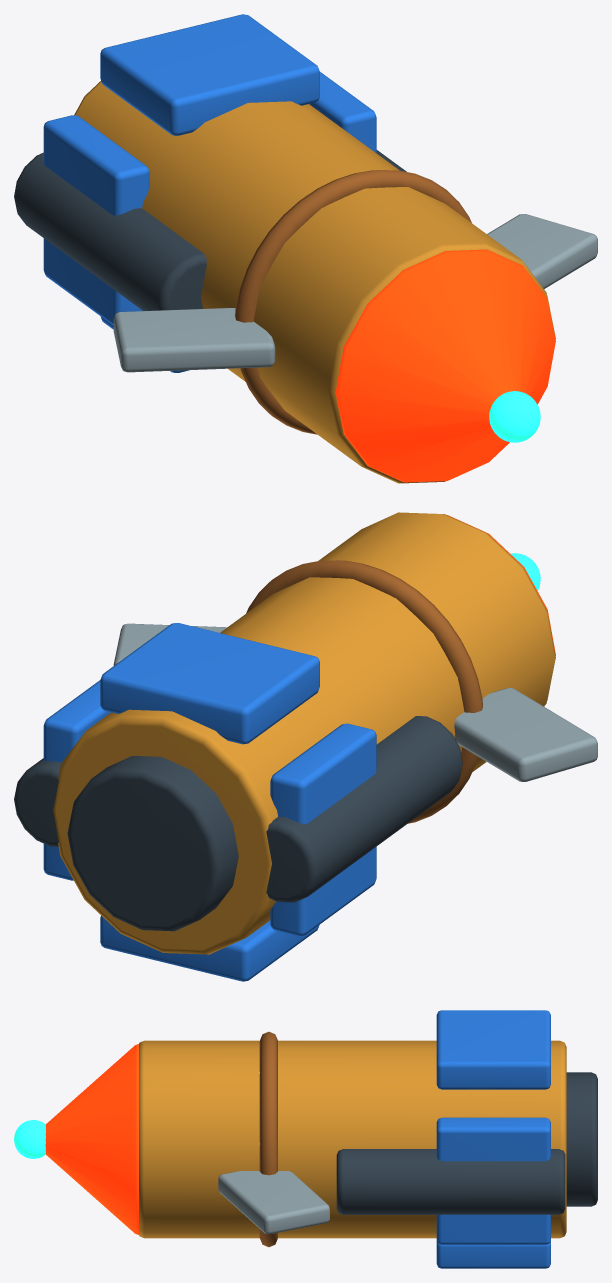
File: SuperTank_Special.fbx
The picture shows the model from 3 angles, top to bottom: view 1: azimuth 30°, elevation 25°; view 2: azimuth 150°, elevation 25°; view 3: azimuth 270°, elevation 25°; orthographic projection. The views are drawn at different scales.
Parts seen in each view (by area): view 1: Rocket body.005, Seeker nose.005, Tail stabilizer.021, Booster.002, Tail stabilizer.022, Guidance wing.004, Identification band.005, Guidance wing.005, Tail stabilizer.020, Guidance lens.002; view 2: Rocket body.005, Engine nozzle.005, Tail stabilizer.021, Booster.002, Tail stabilizer.022, Guidance wing.004, Identification band.005, Tail stabilizer.023, Tail stabilizer.020, Booster.003, Guidance wing.005; view 3: Rocket body.005, Booster.003, Seeker nose.005, Tail stabilizer.021, Tail stabilizer.020, Guidance wing.005, Engine nozzle.005, Identification band.005, Tail stabilizer.023, Guidance lens.002.
Boxes of the visible parts, left/top/right/bottom form: Rocket body.005: left=74, top=81, right=555, bottom=483; Seeker nose.005: left=335, top=249, right=555, bottom=482; Tail stabilizer.021: left=100, top=14, right=319, bottom=135; Booster.002: left=14, top=152, right=206, bottom=310; Tail stabilizer.022: left=43, top=115, right=149, bottom=325; Guidance wing.004: left=113, top=308, right=275, bottom=372; Identification band.005: left=235, top=170, right=471, bottom=434; Guidance wing.005: left=487, top=214, right=597, bottom=288; Tail stabilizer.020: left=309, top=72, right=376, bottom=152; Guidance lens.002: left=489, top=391, right=540, bottom=442; Rocket body.005: left=53, top=512, right=555, bottom=954; Engine nozzle.005: left=67, top=756, right=238, bottom=931; Tail stabilizer.021: left=100, top=623, right=319, bottom=744; Booster.002: left=266, top=716, right=462, bottom=902; Tail stabilizer.022: left=270, top=723, right=376, bottom=935; Guidance wing.004: left=454, top=688, right=597, bottom=781; Identification band.005: left=246, top=560, right=482, bottom=823; Tail stabilizer.023: left=100, top=915, right=319, bottom=981; Tail stabilizer.020: left=43, top=680, right=110, bottom=880; Booster.003: left=14, top=758, right=61, bottom=846; Guidance wing.005: left=113, top=623, right=226, bottom=665; Rocket body.005: left=139, top=1040, right=566, bottom=1238; Booster.003: left=336, top=1149, right=565, bottom=1214; Seeker nose.005: left=45, top=1044, right=138, bottom=1234; Tail stabilizer.021: left=436, top=1010, right=550, bottom=1089; Tail stabilizer.020: left=436, top=1117, right=550, bottom=1244; Guidance wing.005: left=218, top=1171, right=329, bottom=1234; Engine nozzle.005: left=566, top=1072, right=597, bottom=1206; Identification band.005: left=259, top=1031, right=277, bottom=1247; Tail stabilizer.023: left=436, top=1240, right=550, bottom=1268; Guidance lens.002: left=14, top=1120, right=45, bottom=1158.
Size of the model in its own units: 159 by 88 by 224.
